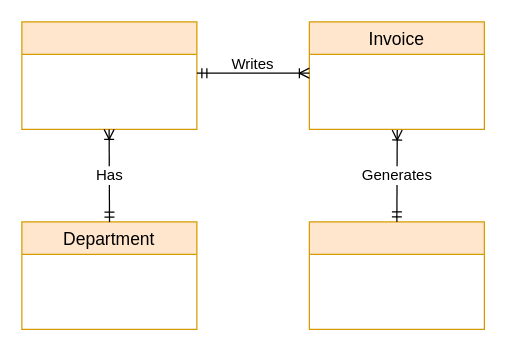
This 506x355 diagram has some shape labels left out. The shapes that lost their labels are listed below. From the top down, each one's centre as x and y in pixels, then its label:
the point at 109,75: Sales_Representative
the point at 396,275: Customer
